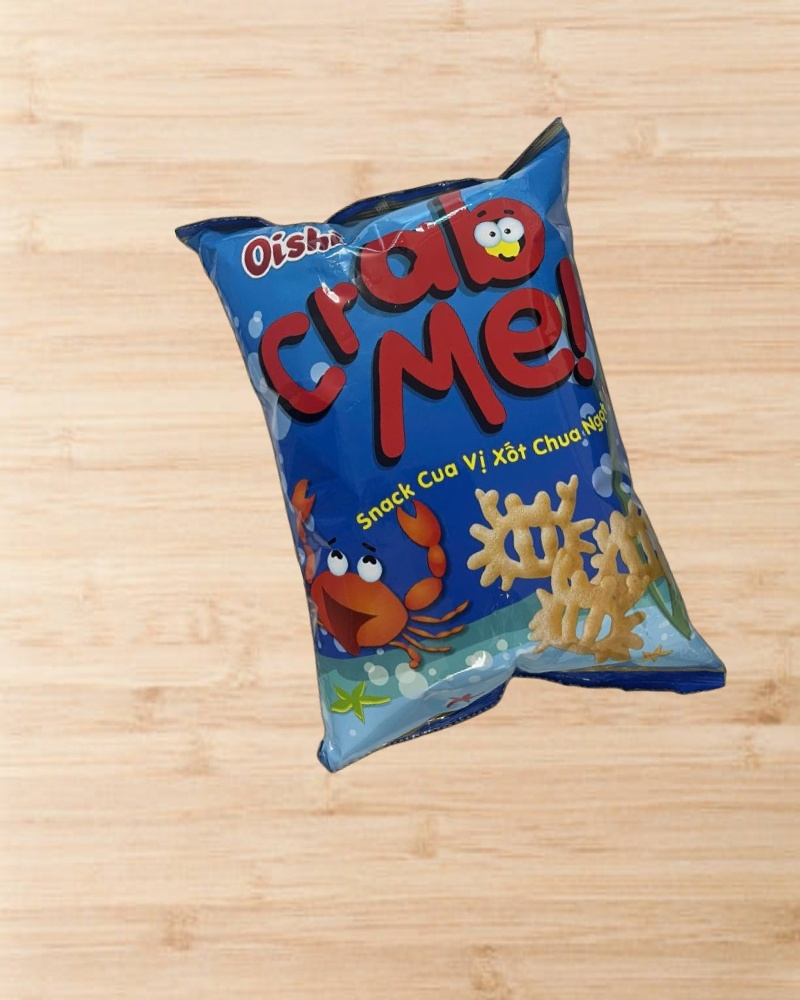Snack cua: (173, 113, 729, 787)
